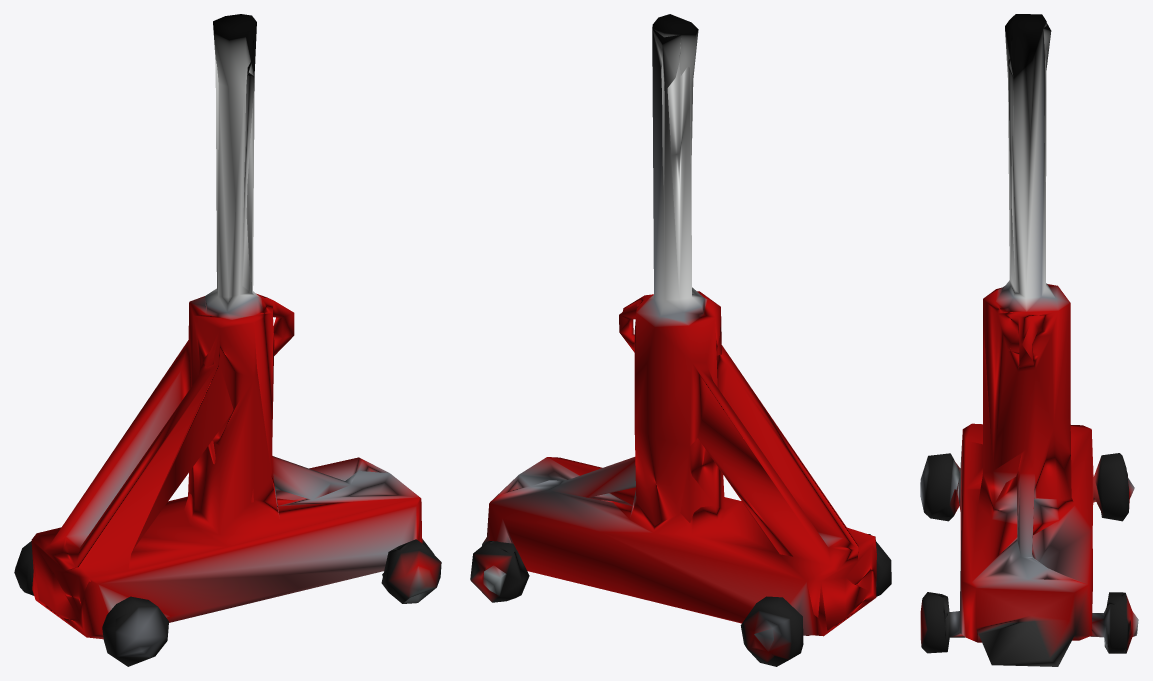
Rendered from gen3d-car-jack-lod1.glb.
3 renders of one model, left to right at view 1: azimuth 30°, elevation 25°; view 2: azimuth 150°, elevation 25°; view 3: azimuth 270°, elevation 25°, orthographic.
Visible parts, largest first — view 1: part_0; view 2: part_0; view 3: part_0.
Boxes of the visible parts, x1,y1,x2,y2 form: part_0: (14, 14, 441, 666); part_0: (470, 14, 891, 666); part_0: (920, 14, 1138, 666).
Bounding box in the file's own units: 0.6464 × 0.9949 × 0.344.
